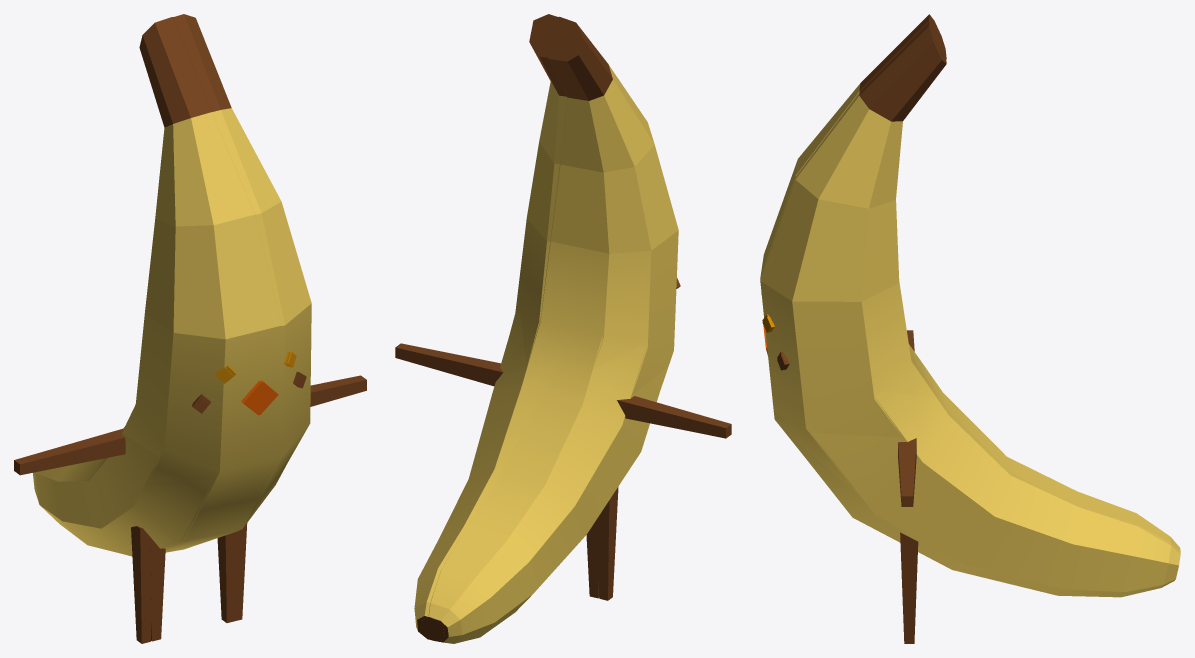
The model's file is banana_run.fbx.
3 views of the same model, side by side, from view 1: azimuth 30°, elevation 25°; view 2: azimuth 150°, elevation 25°; view 3: azimuth 270°, elevation 25° (orthographic). The views are drawn at different scales.
Visible parts, largest first — view 1: pPlane5, polySurface2; view 2: pPlane5, polySurface2; view 3: polySurface2, pPlane5.
Part boxes in pixels (left/top/right/bottom): pPlane5: left=26, top=17, right=366, bottom=641; polySurface2: left=14, top=14, right=311, bottom=643; pPlane5: left=395, top=16, right=680, bottom=641; polySurface2: left=421, top=14, right=731, bottom=643; polySurface2: left=760, top=19, right=1180, bottom=552; pPlane5: left=760, top=14, right=1180, bottom=643.
Bounding box in the file's own units: 2.92 × 4.88 × 3.12.
